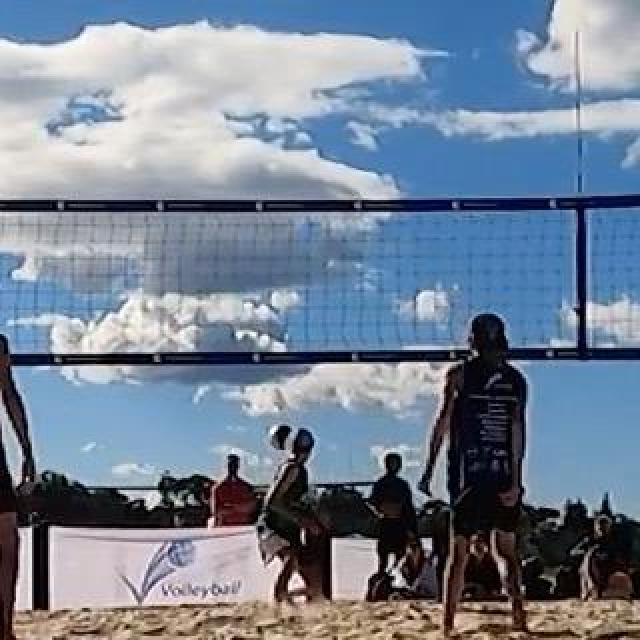volleyball: (267, 423, 295, 451)
